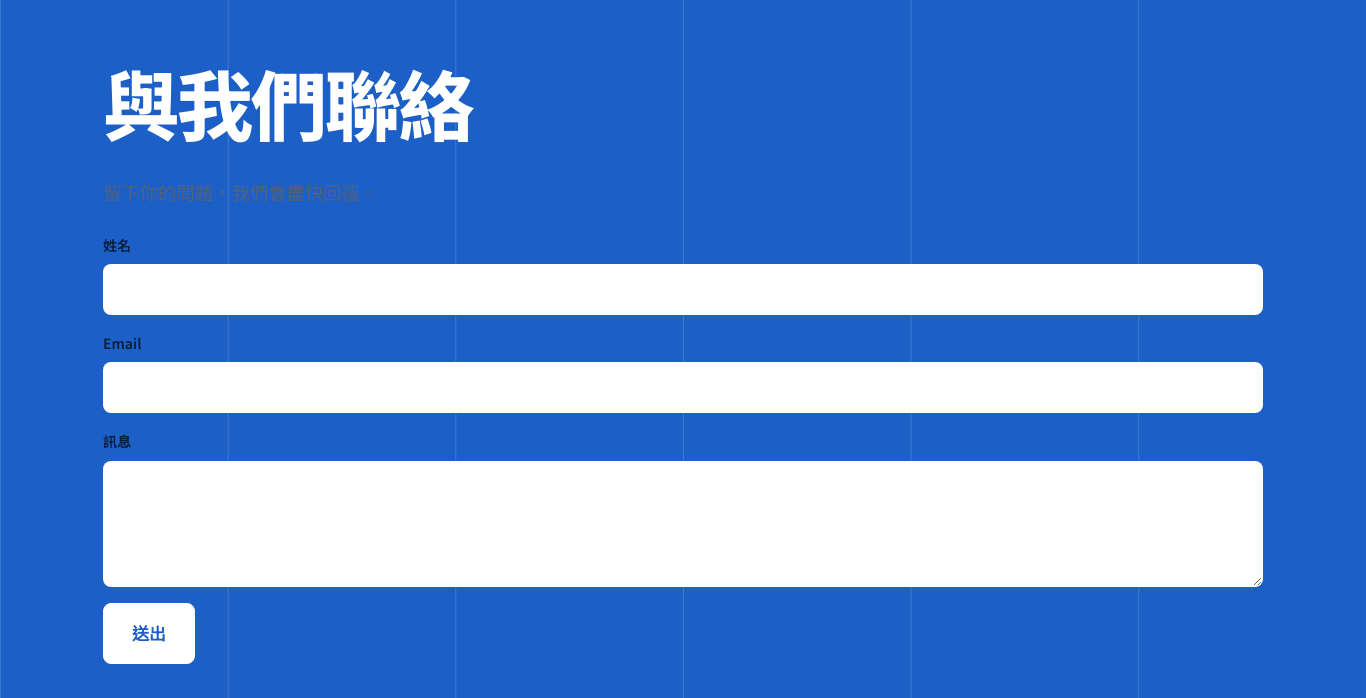
Test: site form › posts the fields to the configured endpoint on a live site and reports success
Type "小明" into the field labelled "姓名" at (683, 290), box [103,264,1263,315]
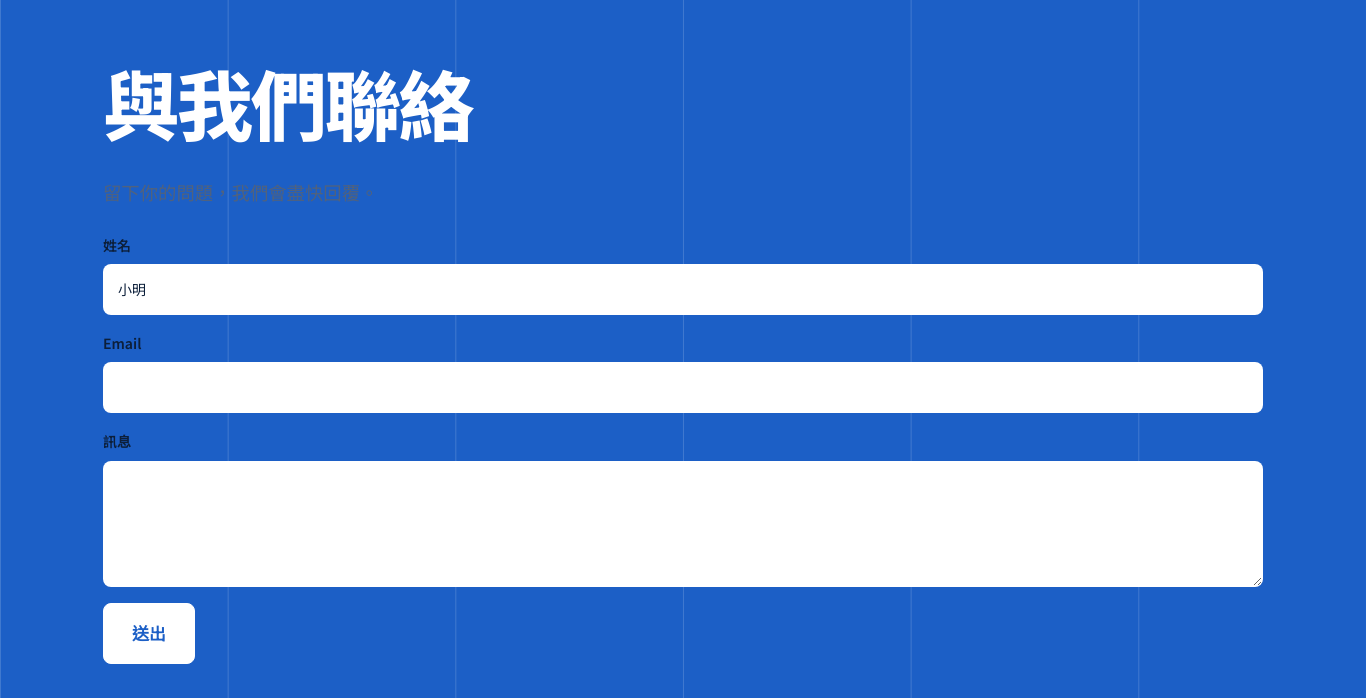
Type "a@b.co" into the field labelled "Email" at (683, 388), box [103,362,1263,414]
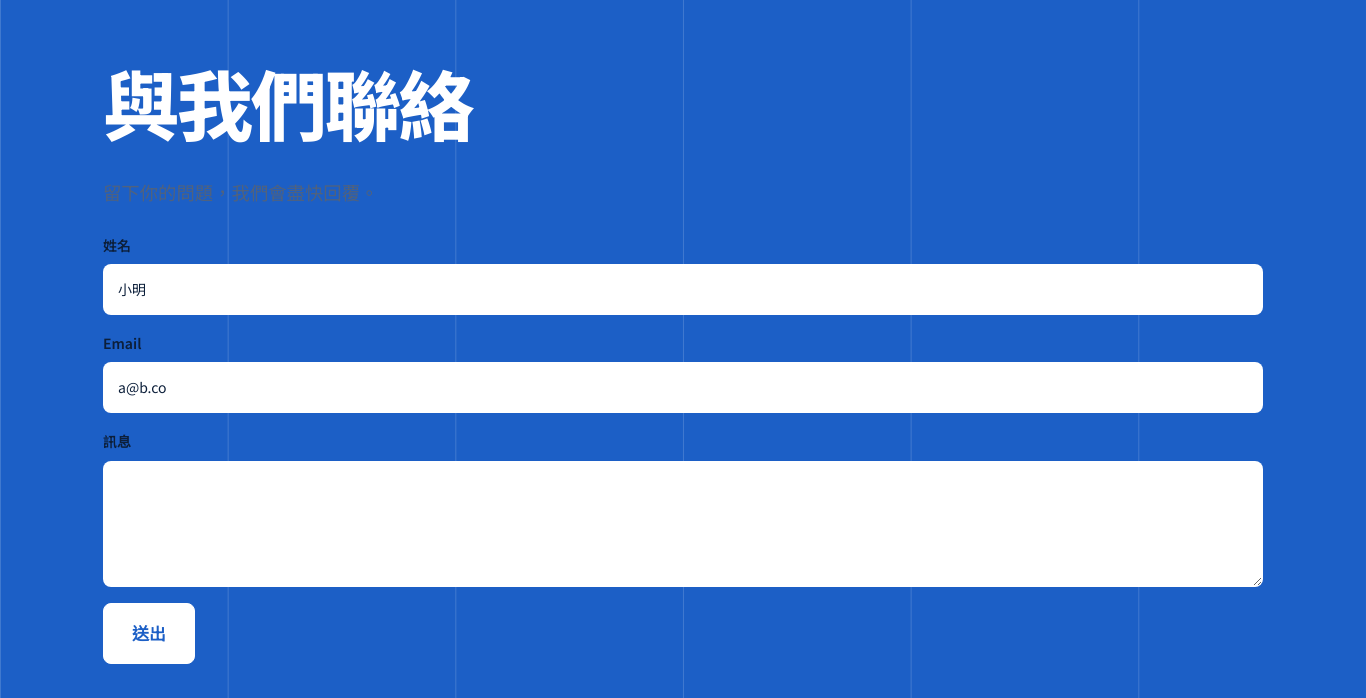
Type "你好" into the text box labelled "訊息" at (683, 524), box [103,461,1263,588]
(page scrolled)
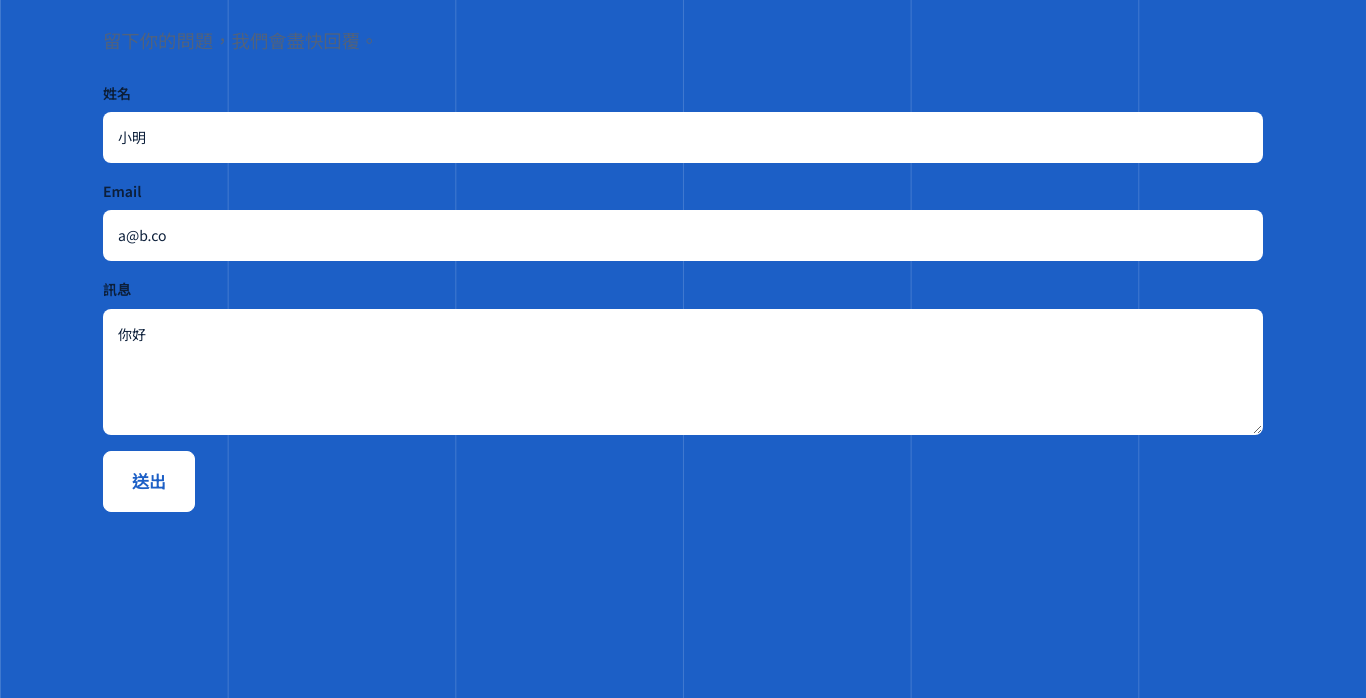
Submit the form "送出", box [103,81,1263,549]
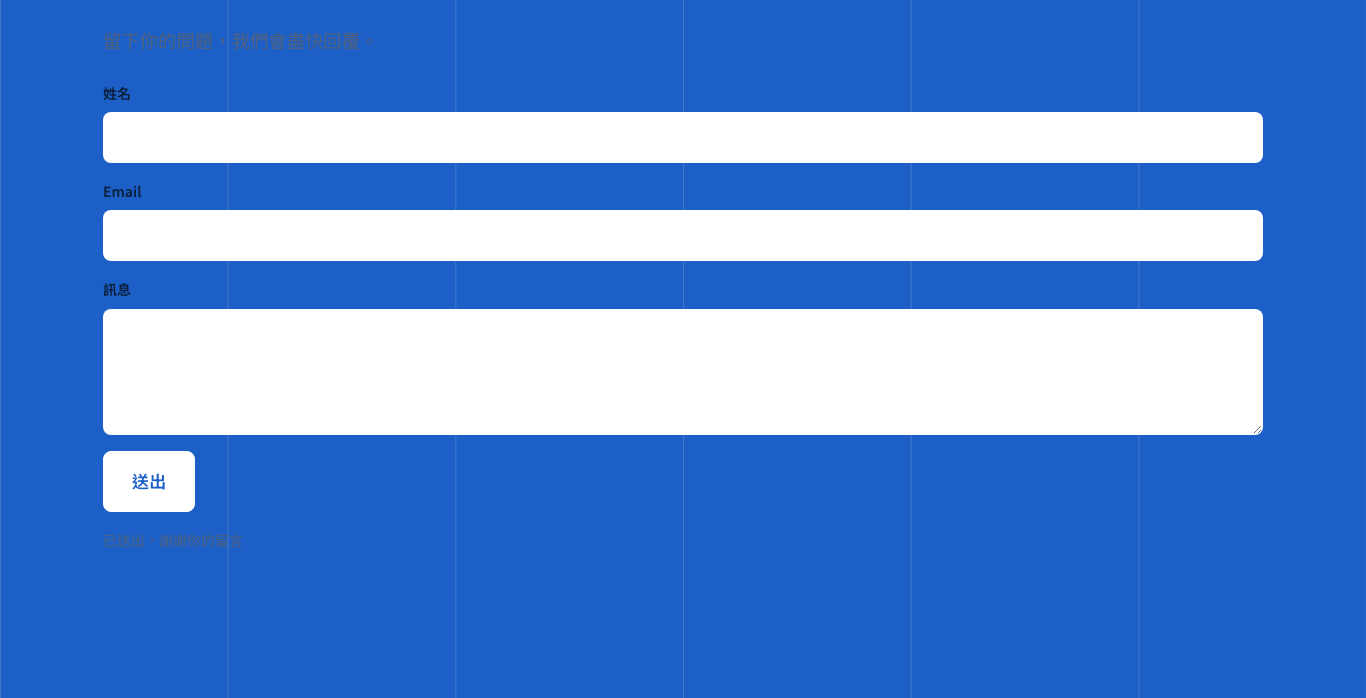
Now the text "已送出，謝謝你的留言" is shown, box [103,530,243,550]
